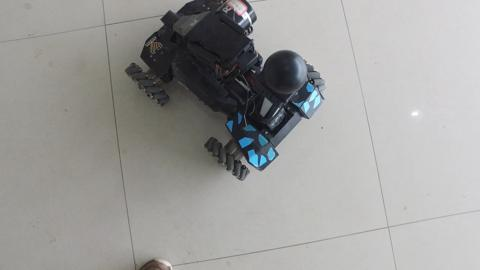chariot: (120, 2, 320, 189)
